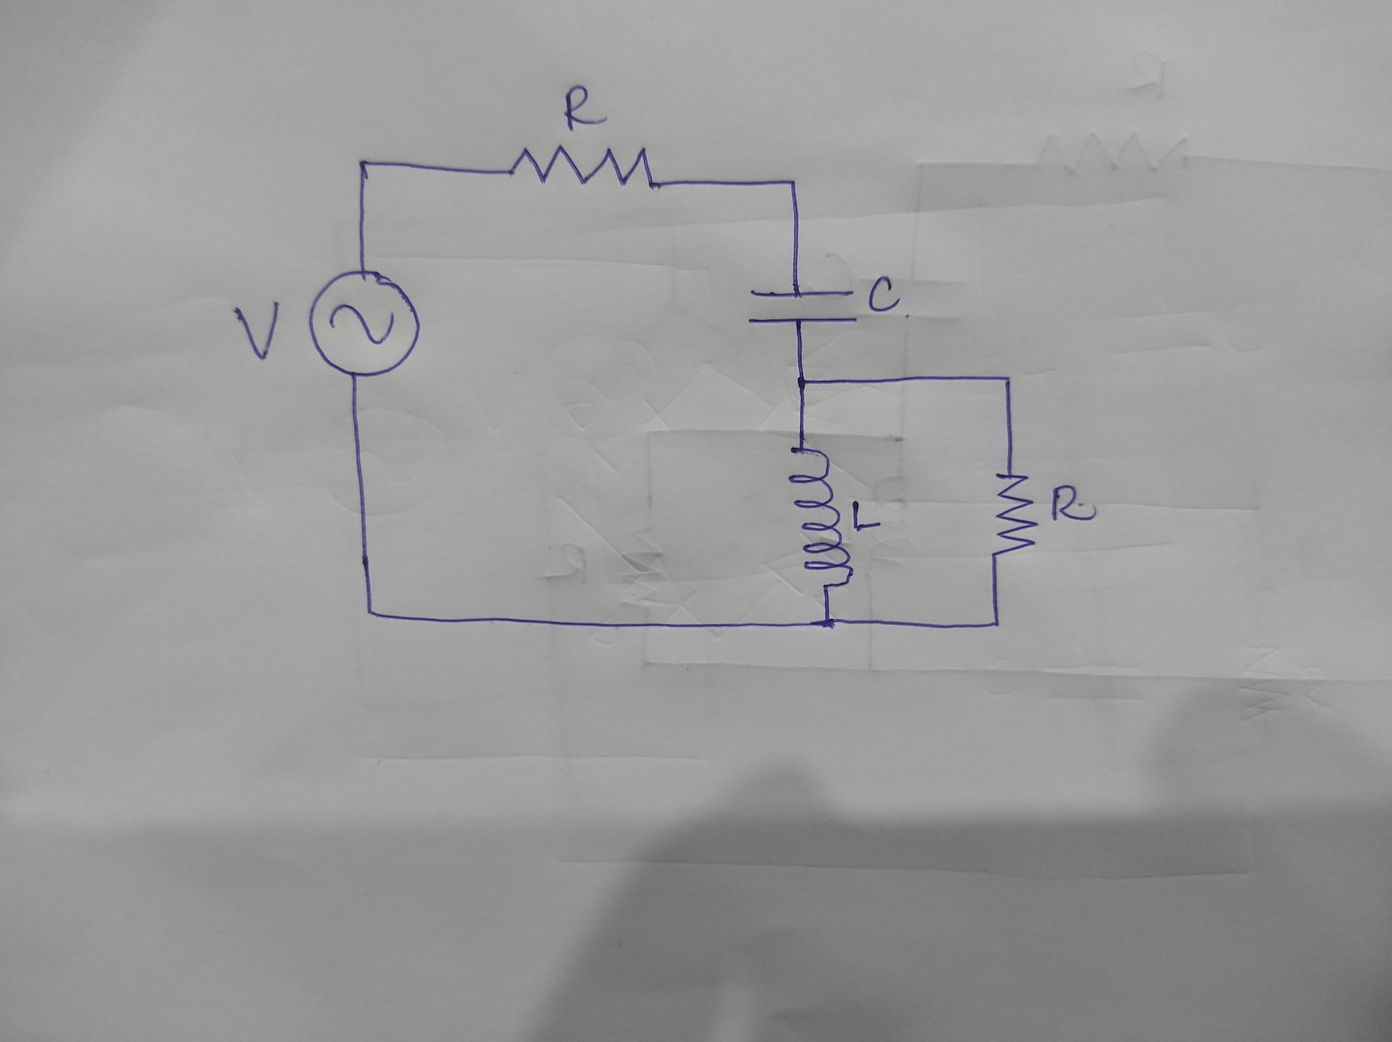capacitor.unpolarized: (744, 283, 860, 328)
inductor: (784, 444, 855, 591)
junction: (349, 148, 381, 181), (775, 167, 808, 198), (355, 597, 387, 625), (811, 612, 842, 634), (982, 612, 1009, 636), (790, 369, 814, 394), (995, 370, 1017, 389)
resistor: (499, 135, 669, 194), (991, 465, 1040, 561)
text: (230, 297, 287, 362), (561, 81, 610, 135), (1049, 481, 1104, 526), (865, 273, 904, 316), (849, 498, 883, 532)
voltage.dc_ac: (305, 266, 425, 380)
